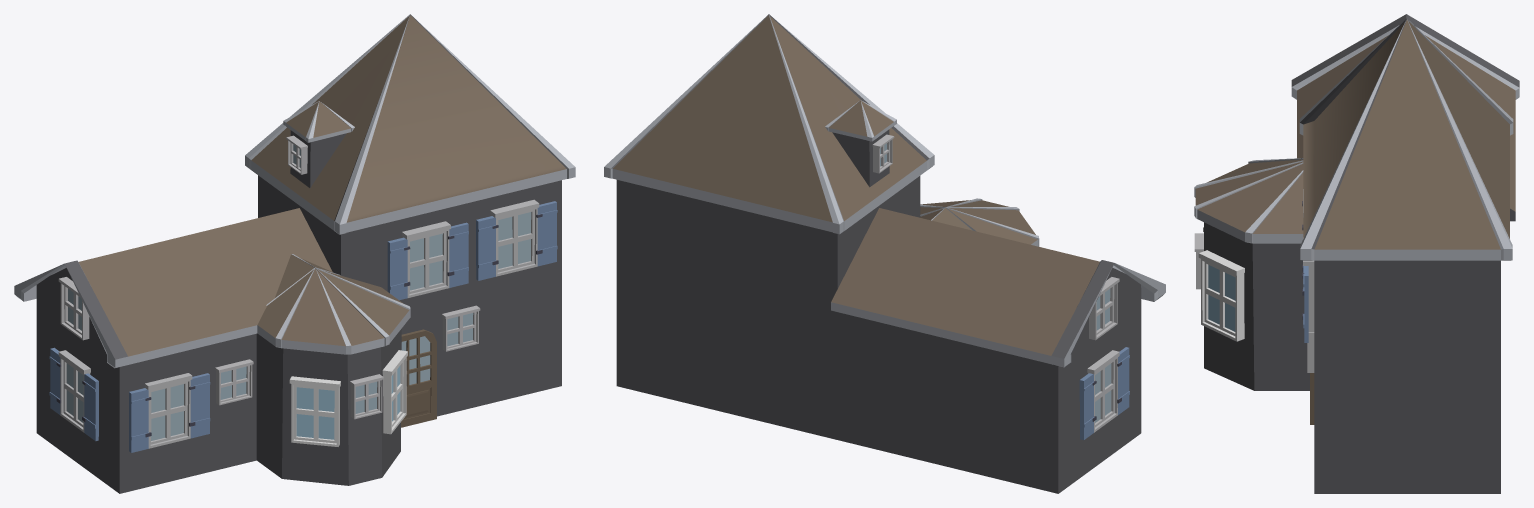
File: House_Medium.fbx
The picture shows the model from 3 angles, left to right: view 1: azimuth 30°, elevation 25°; view 2: azimuth 150°, elevation 25°; view 3: azimuth 270°, elevation 25°; orthographic projection. The views are drawn at different scales.
Parts seen in each view (by area): view 1: House_Medium; view 2: House_Medium; view 3: House_Medium.
Part boxes in pixels (left/top/right/bottom): House_Medium: left=14, top=14, right=575, bottom=493; House_Medium: left=604, top=14, right=1165, bottom=493; House_Medium: left=1194, top=14, right=1519, bottom=493.
Bounding box in the file's own units: 1113 × 847 × 601.
